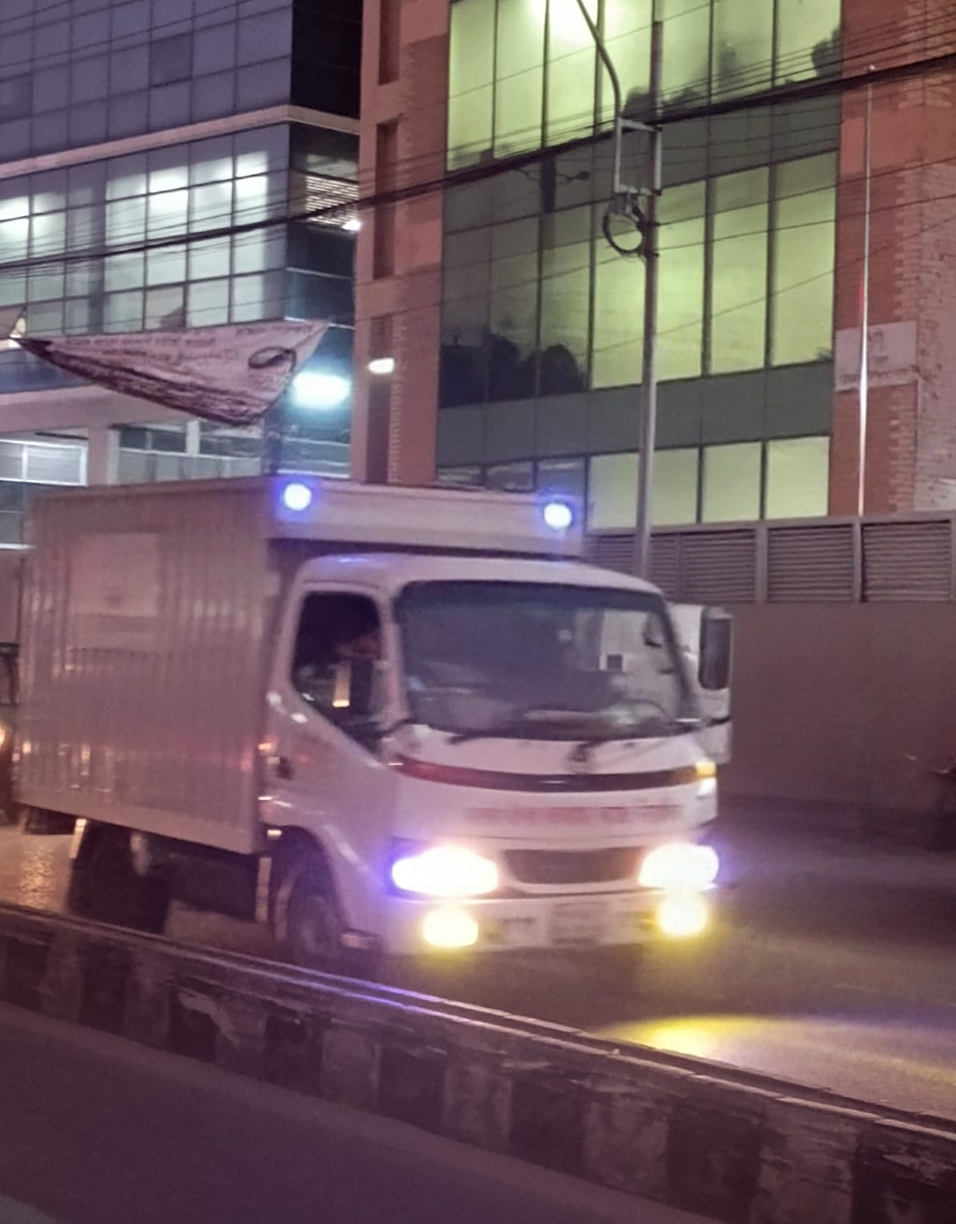Pickup: (0, 466, 733, 972)
